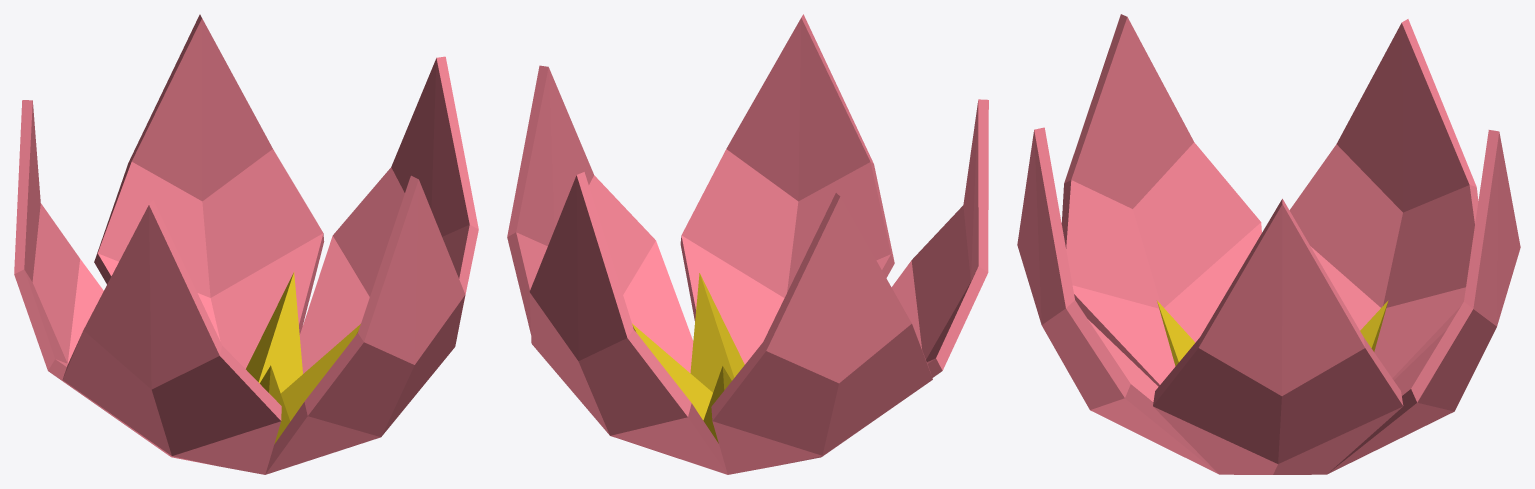
File: Fiore 2.DAE
The picture shows the model from 3 angles, left to right: view 1: azimuth 30°, elevation 25°; view 2: azimuth 150°, elevation 25°; view 3: azimuth 270°, elevation 25°; orthographic projection. The views are drawn at different scales.
Visible parts, largest first — view 1: pink_water_lily_Plane_008; view 2: pink_water_lily_Plane_008; view 3: pink_water_lily_Plane_008.
Boxes of the visible parts, bbox=[...] form: pink_water_lily_Plane_008: bbox=[14, 14, 478, 474]; pink_water_lily_Plane_008: bbox=[507, 14, 988, 474]; pink_water_lily_Plane_008: bbox=[1017, 14, 1520, 474].
Bounding box in the file's own units: 2.29 × 1.78 × 2.36.
